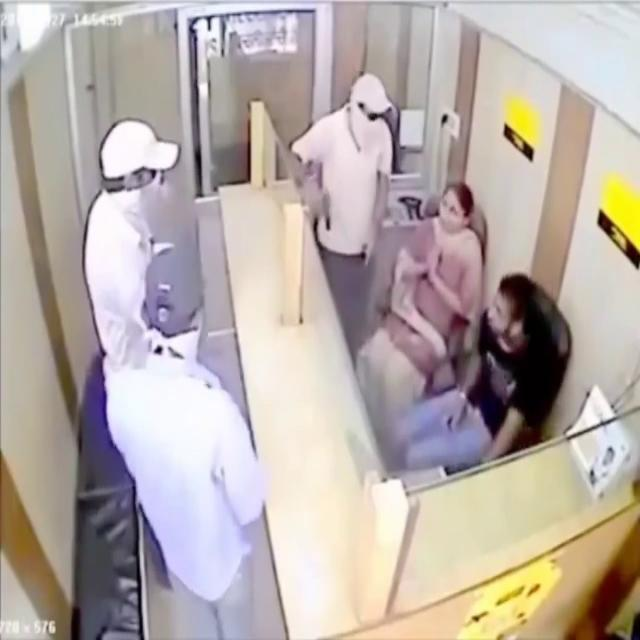weapon: (314, 182, 334, 230)
